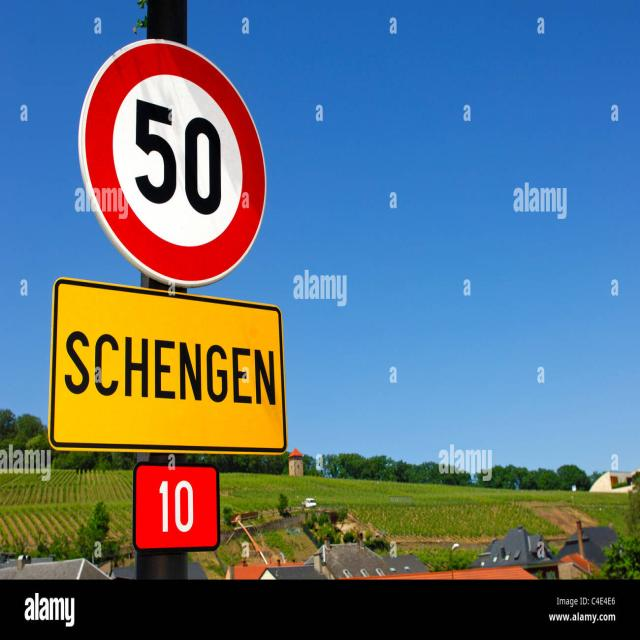speed_50: (81, 38, 268, 288)
